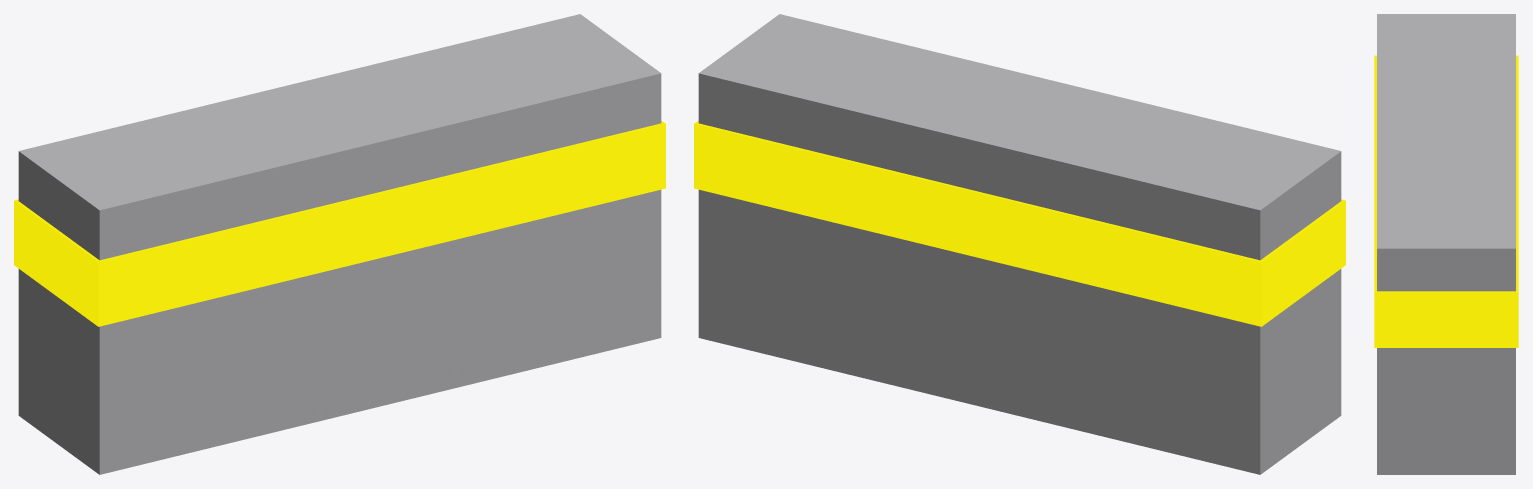
File: barrier.glb
3 renders of one model, left to right at view 1: azimuth 30°, elevation 25°; view 2: azimuth 150°, elevation 25°; view 3: azimuth 270°, elevation 25°, orthographic. The views are drawn at different scales.
Size of the model in its own units: 2.02 by 0.9 by 0.52.
